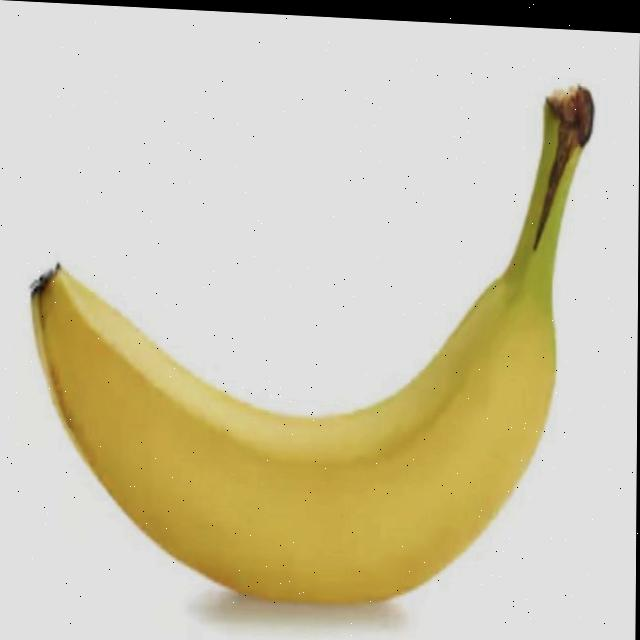banana: (29, 55, 608, 640)
